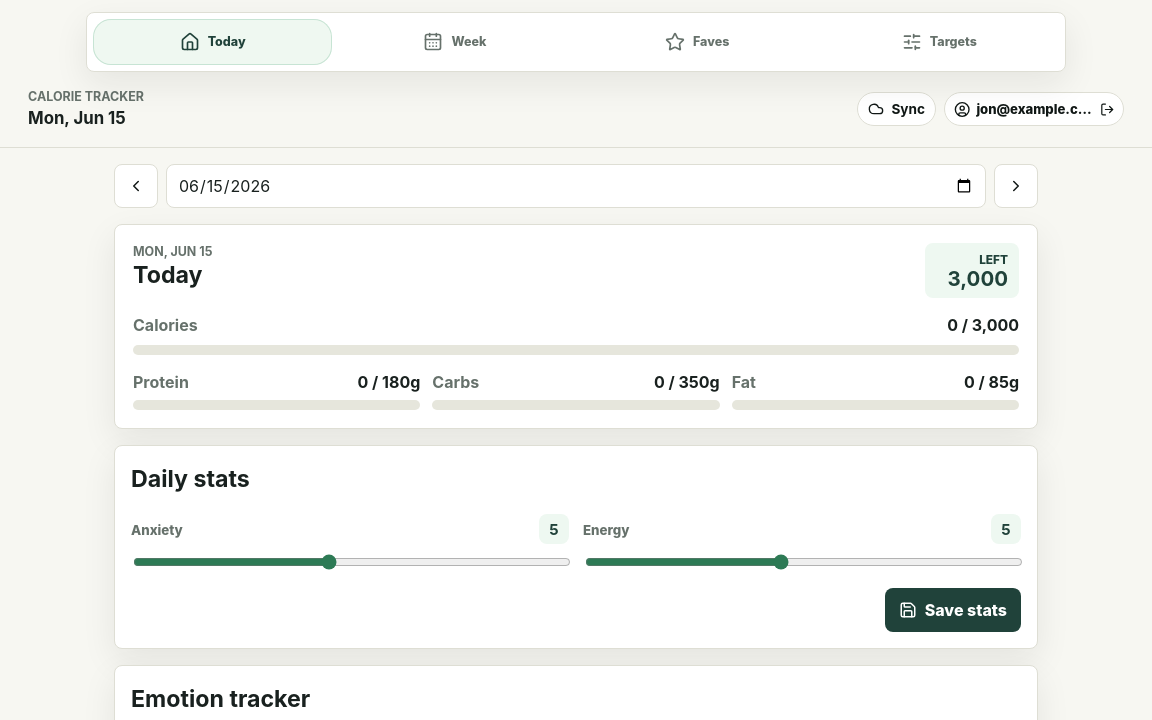
Scenario: TrackerShell › labels the selected day relative to the current day
Check: the heading "Today" is shown, box [133, 263, 212, 288]
Type "2026-06-14" into the date field named "Selected date" at x=576, y=186, box [166, 164, 986, 208]
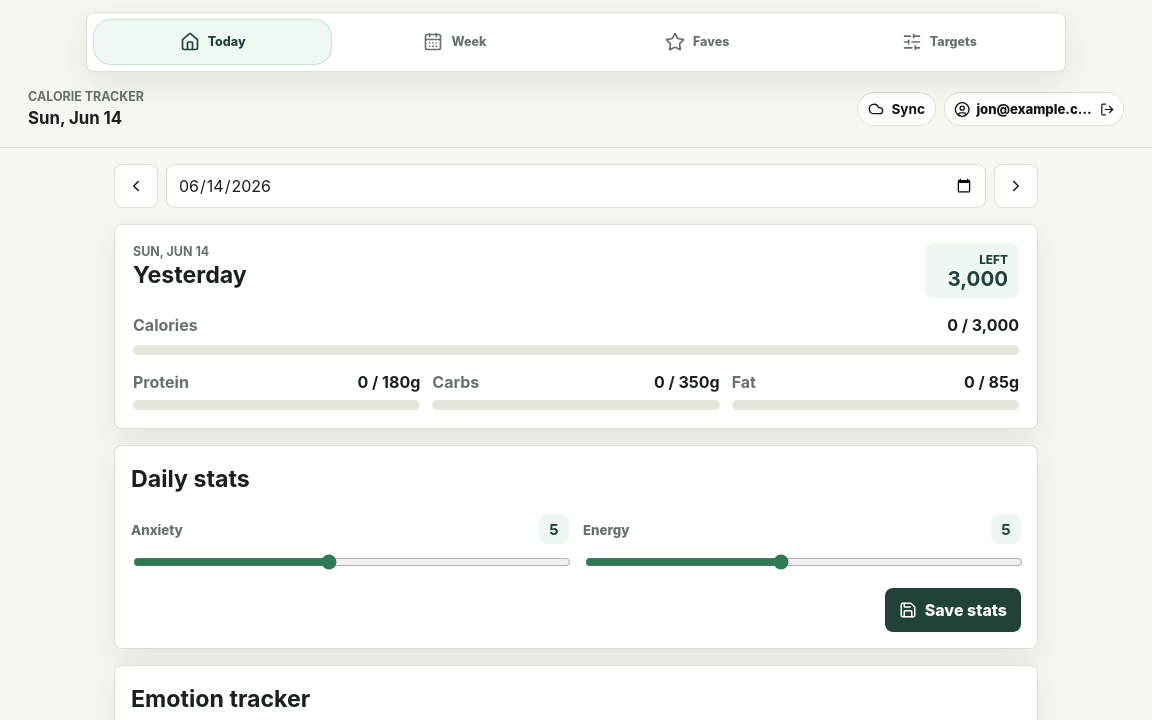
Check: the heading "Yesterday" is shown, box [133, 263, 247, 288]
Type "2026-06-16" into the date field named "Selected date" at x=576, y=186, box [166, 164, 986, 208]
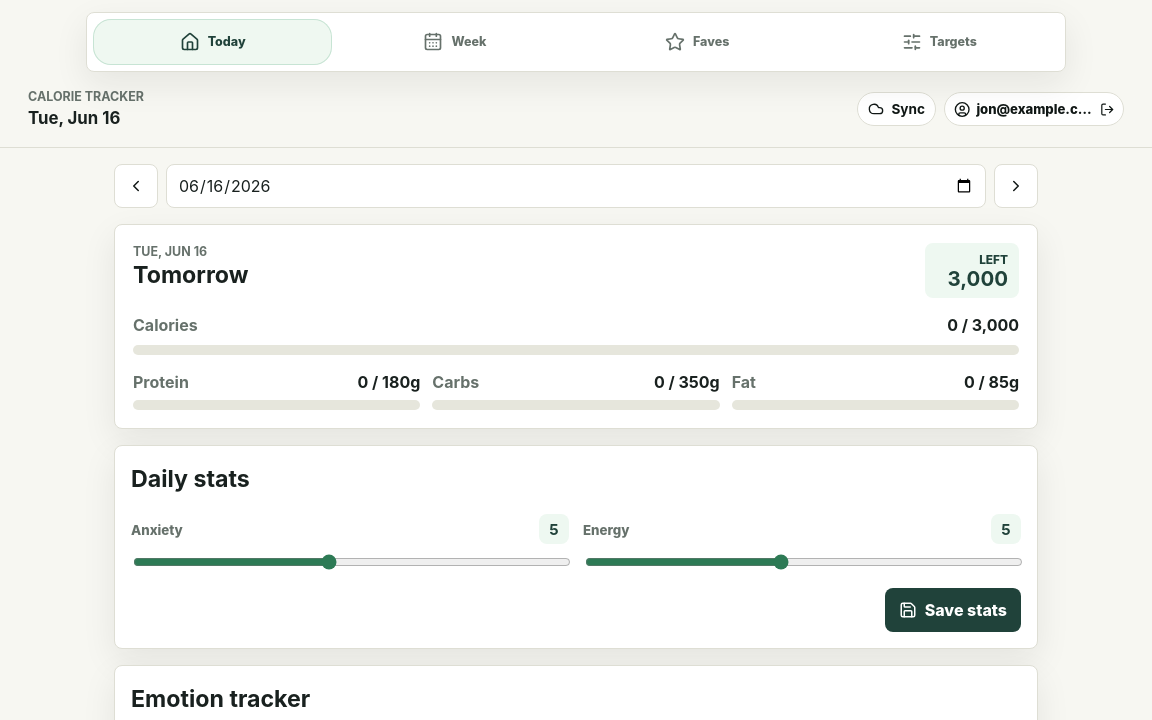
Check: the heading "Tomorrow" is shown, box [133, 263, 248, 288]
Type "2026-06-12" into the date field named "Selected date" at x=576, y=186, box [166, 164, 986, 208]
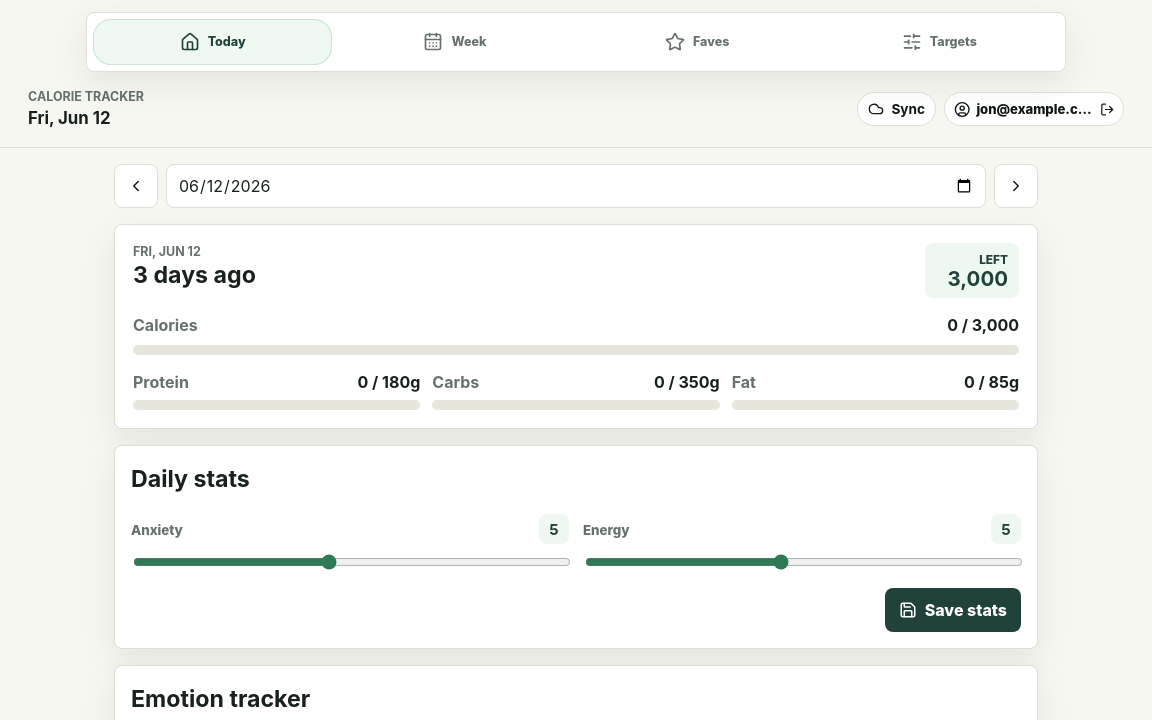
Check: the heading "3 days ago" is shown, box [133, 263, 256, 288]
Type "2026-06-18" into the date field named "Selected date" at x=576, y=186, box [166, 164, 986, 208]
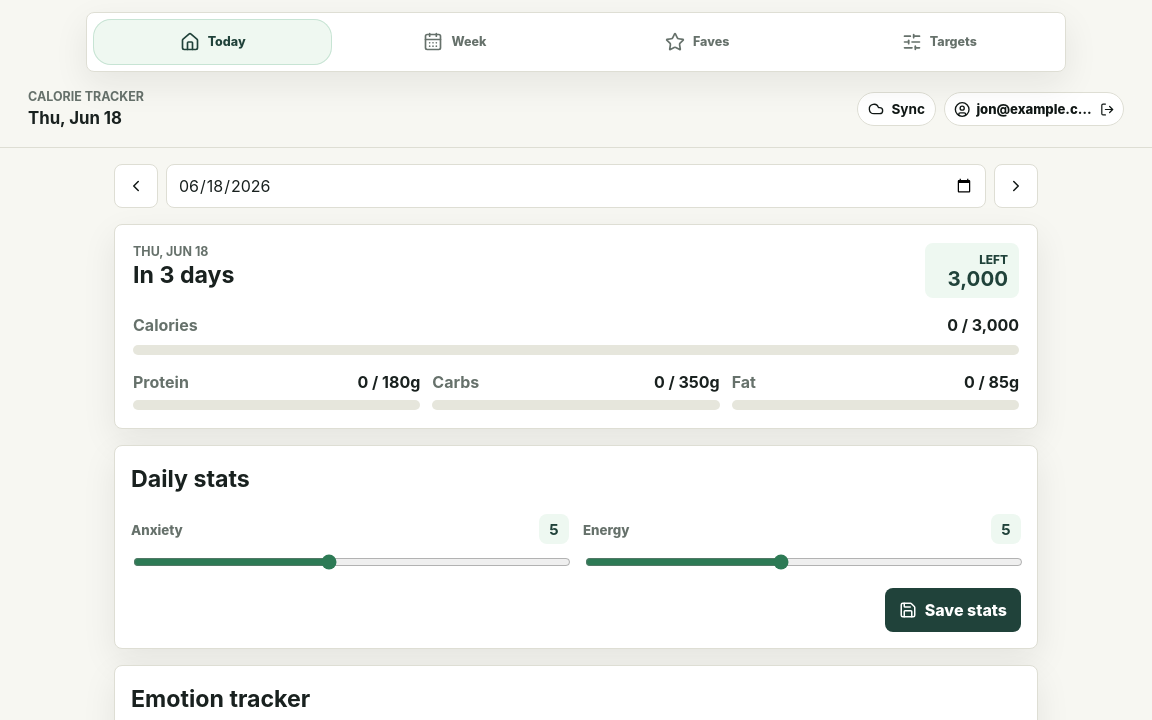
Check: the heading "In 3 days" is shown, box [133, 263, 234, 288]
